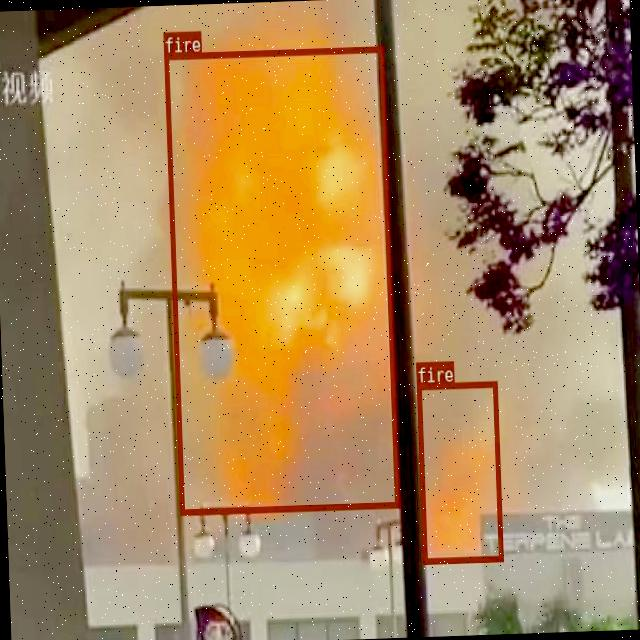fire: (162, 46, 398, 513), (416, 378, 502, 562)
